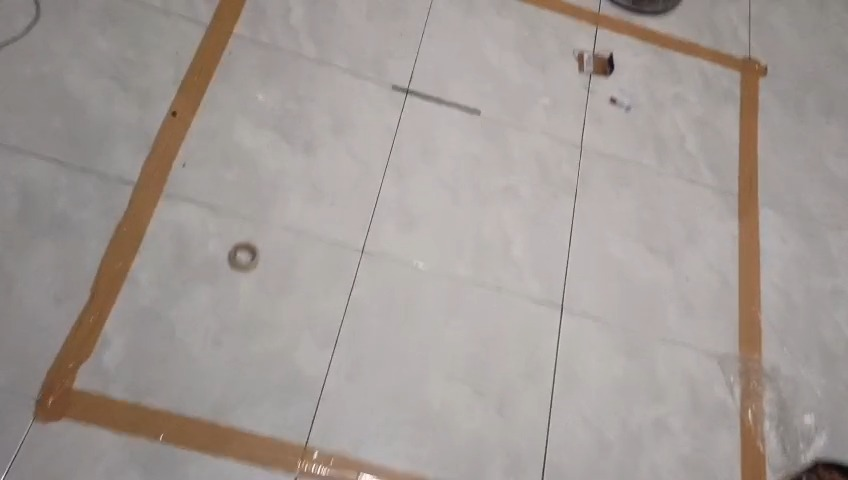floor marking: (35, 0, 422, 478), (528, 0, 766, 360), (738, 368, 765, 479)
